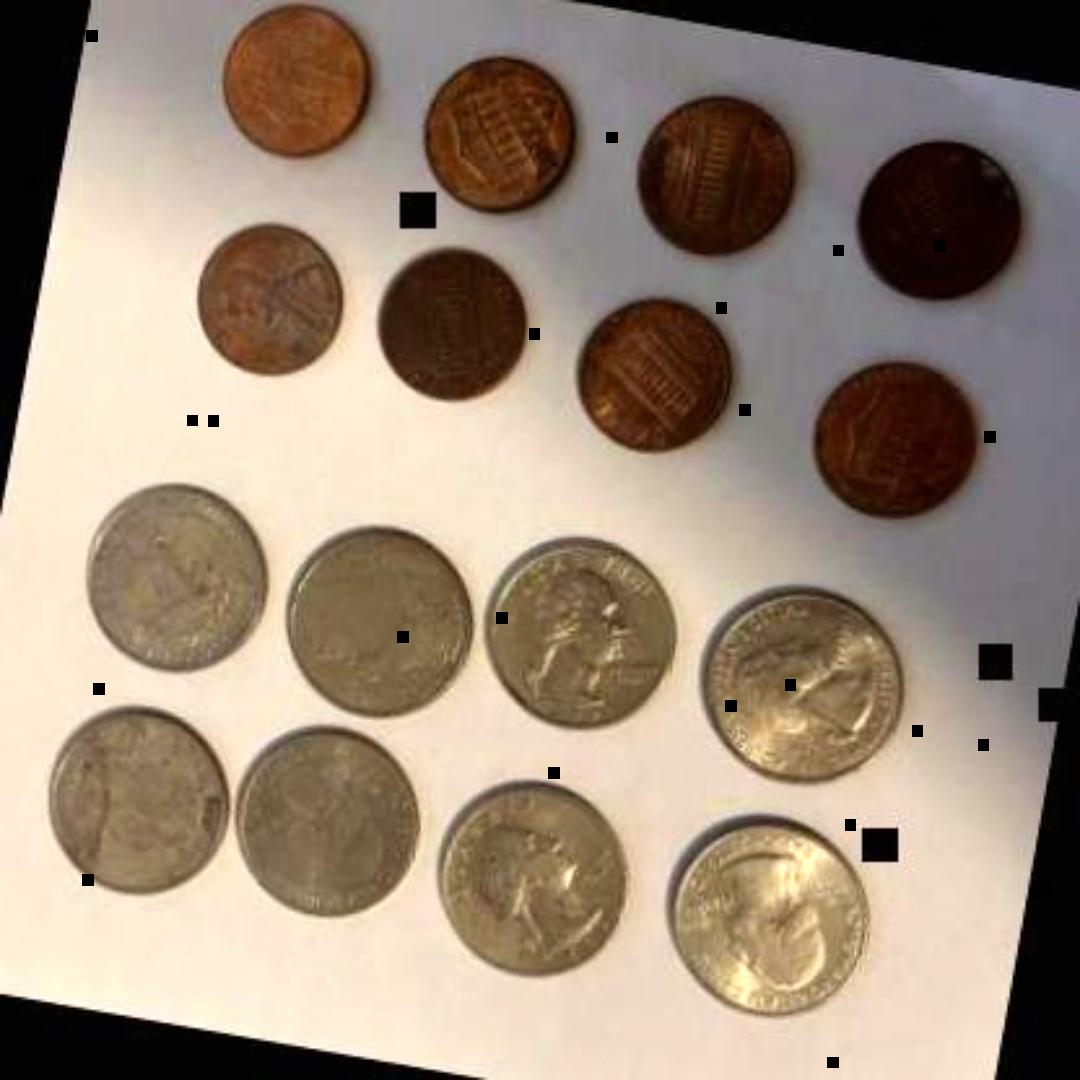Penny: (794, 340, 986, 532), (837, 118, 1029, 310), (556, 281, 742, 467), (615, 78, 799, 264), (406, 38, 588, 222), (362, 226, 542, 410), (195, 0, 389, 166), (179, 204, 355, 386)
Quarter: (642, 793, 880, 1029), (682, 562, 915, 796), (414, 755, 640, 993), (213, 698, 433, 929), (63, 457, 283, 685), (25, 687, 243, 907), (268, 505, 480, 730), (465, 522, 680, 738)
